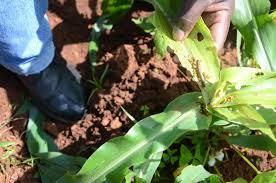fallarmy_worm: (194, 56, 210, 89)
